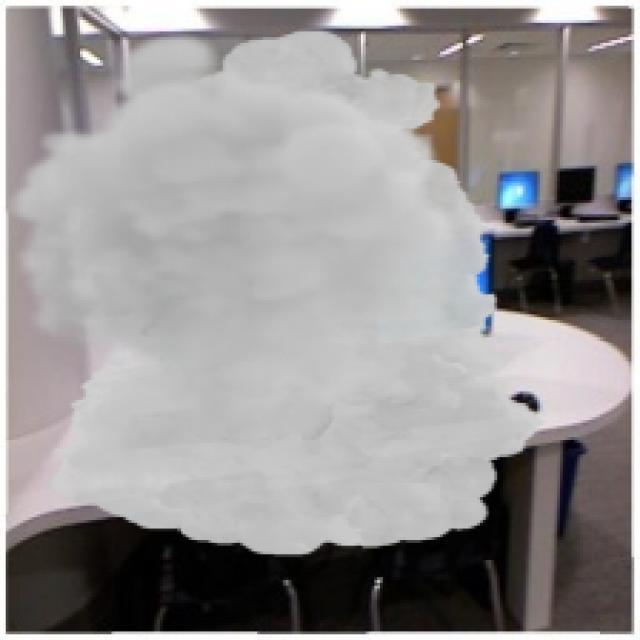Smoke: (6, 29, 548, 558)
